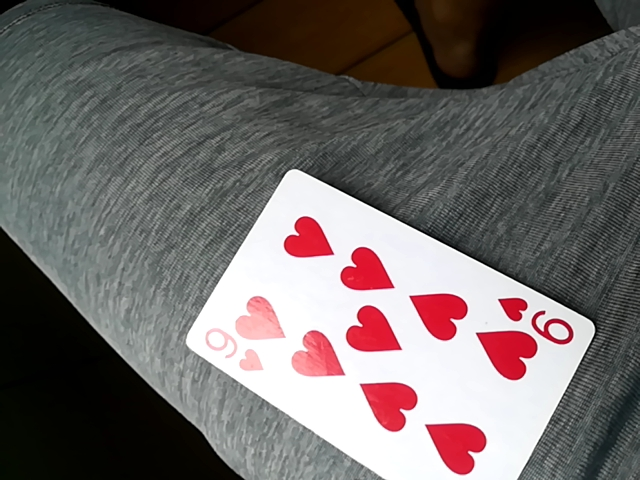hx 9: (187, 165, 597, 479)
